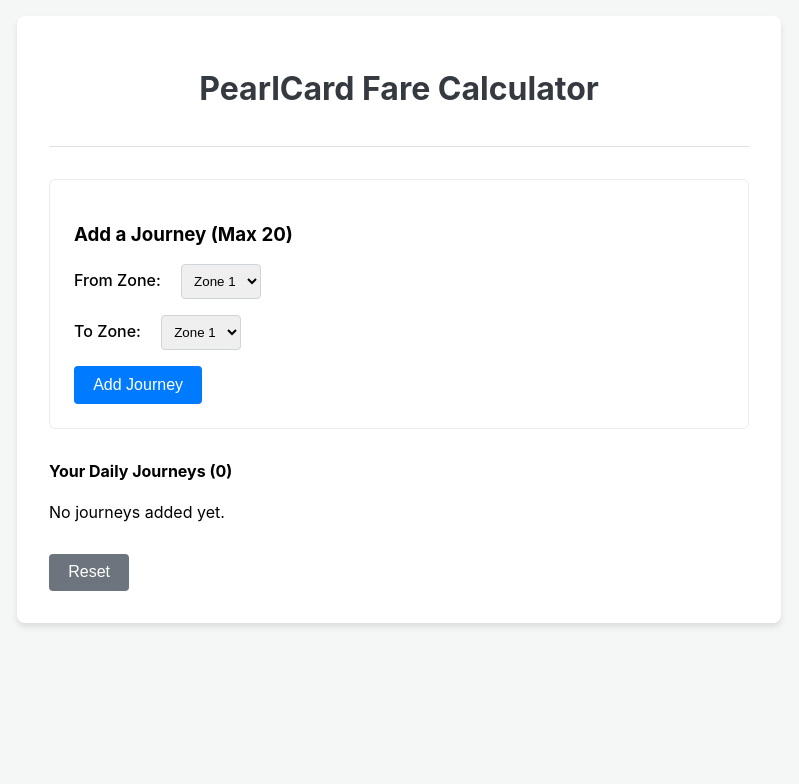
Test case: App Component › should allow a user to add multiple journeys, see the total update, and delete them
Select "Zone 1" in the dropdown labelled "From Zone:" at (221, 282), box x1=181 y1=264 x2=261 y2=299
Select "Zone 2" in the dropdown labelled "To Zone:" at (201, 333), box x1=161 y1=315 x2=241 y2=350
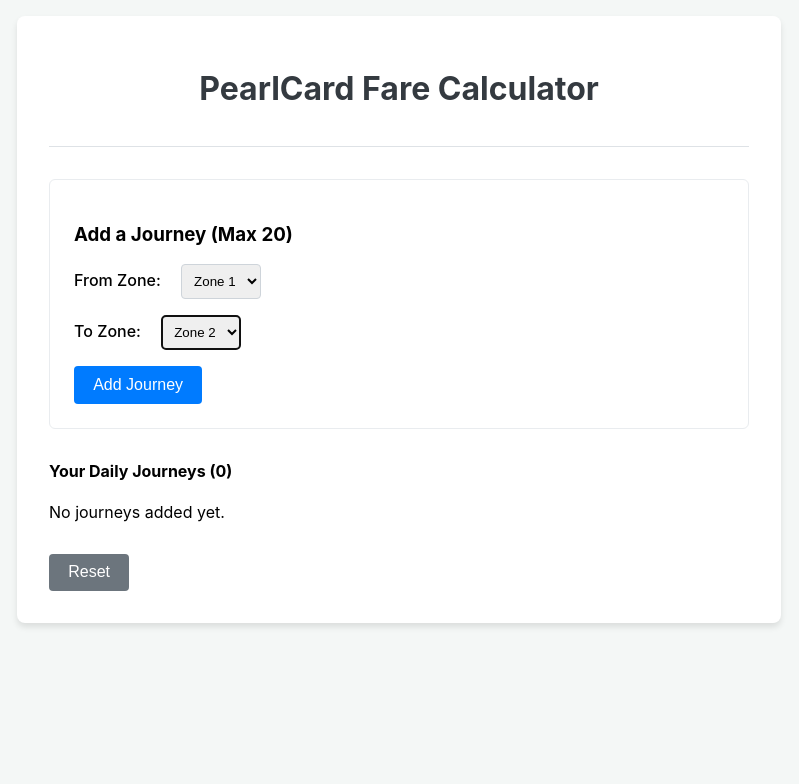
Click the button "Add Journey" at (138, 385), box x1=74 y1=366 x2=202 y2=404
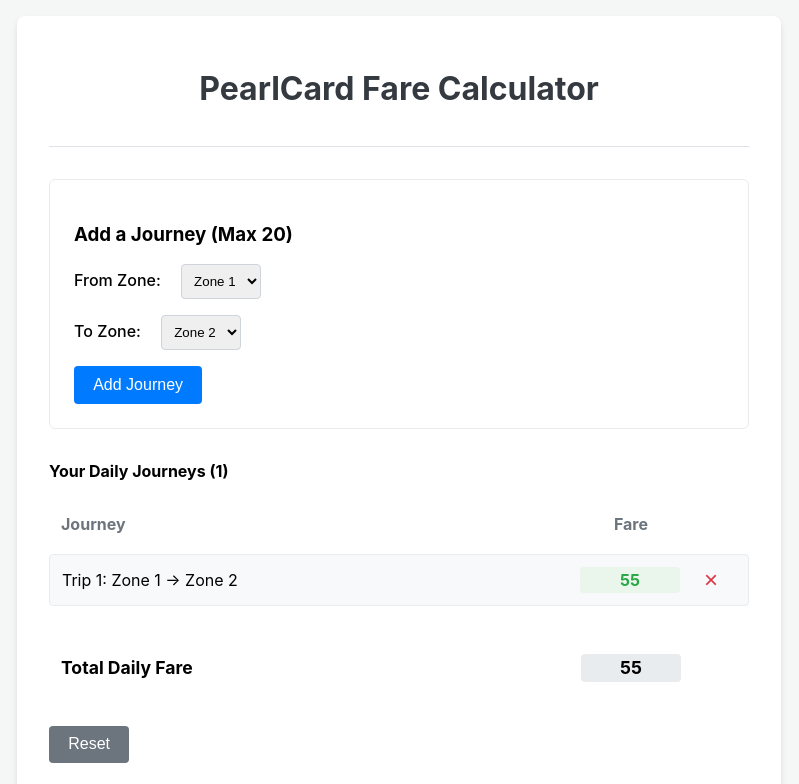
Check: the text "Trip 1: Zone 1 → Zone 2" is shown, box x1=62 y1=570 x2=238 y2=590
Check: the text with class "total-value" reads "55", box x1=620 y1=657 x2=642 y2=678
Select "Zone 3" in the dropdown labelled "From Zone:" at (221, 282), box x1=181 y1=264 x2=261 y2=299
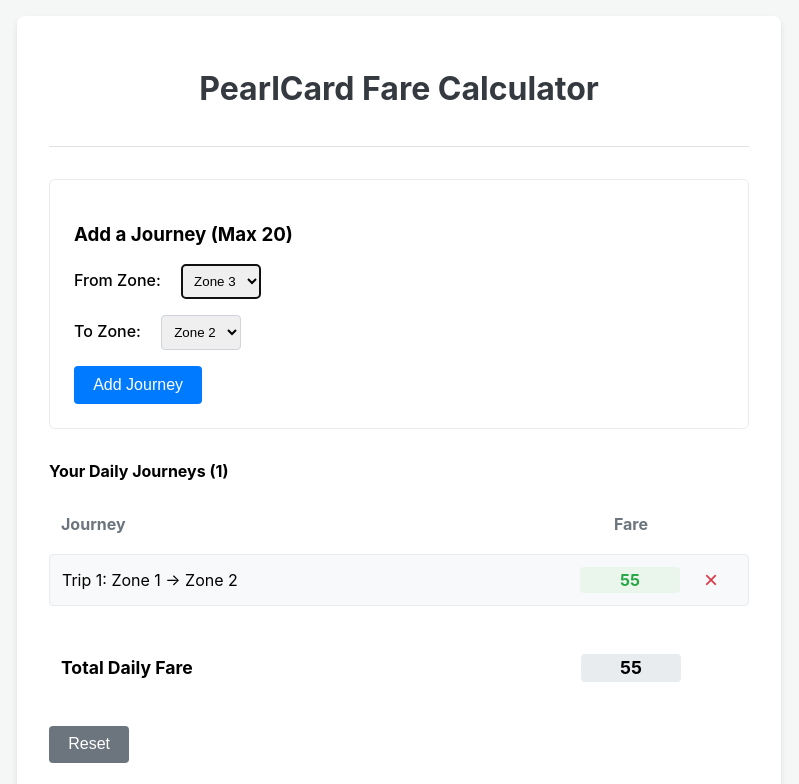
Select "Zone 3" in the dropdown labelled "To Zone:" at (201, 333), box x1=161 y1=315 x2=241 y2=350
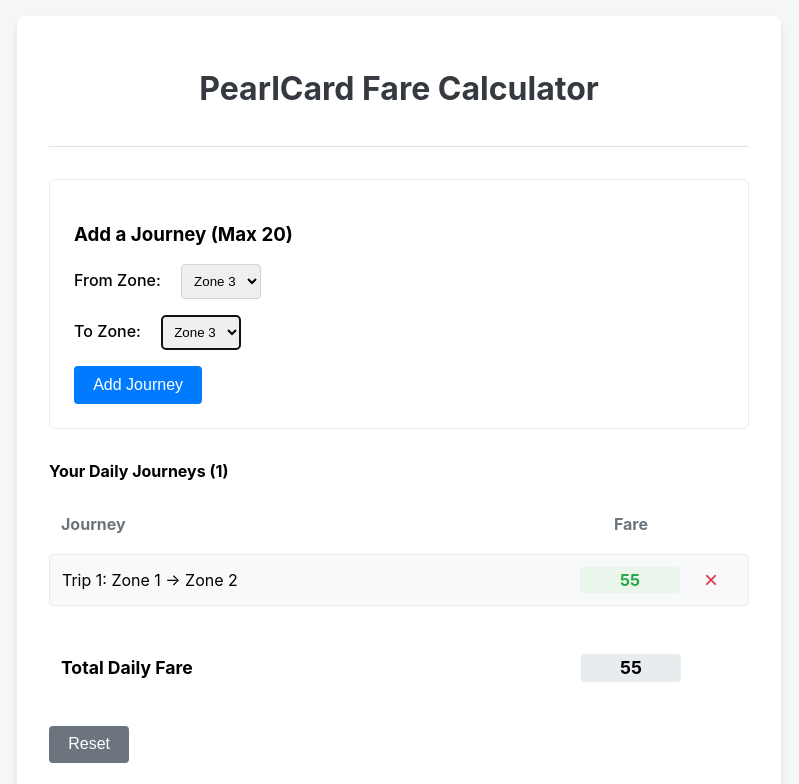
Click the button "Add Journey" at (138, 385), box x1=74 y1=366 x2=202 y2=404
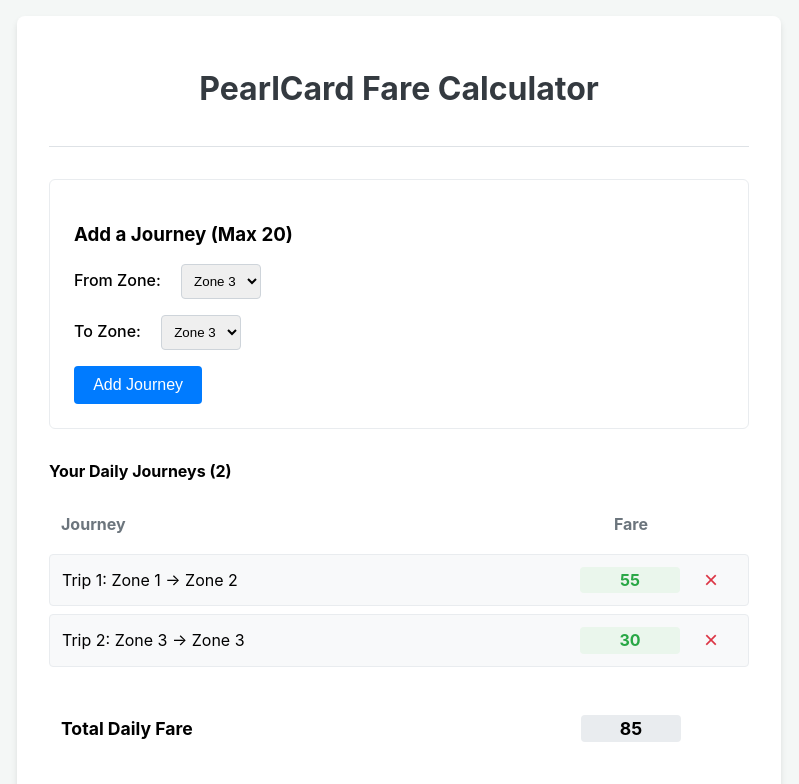
Check: the text "Trip 2: Zone 3 → Zone 3" is shown, box x1=62 y1=630 x2=244 y2=650
Check: the text with class "total-value" reads "85", box x1=620 y1=718 x2=642 y2=739
Click the button titled "delete this journey" in the row of "Trip 1: Zone 1 → Zone 2" at (711, 580), box x1=696 y1=568 x2=726 y2=592
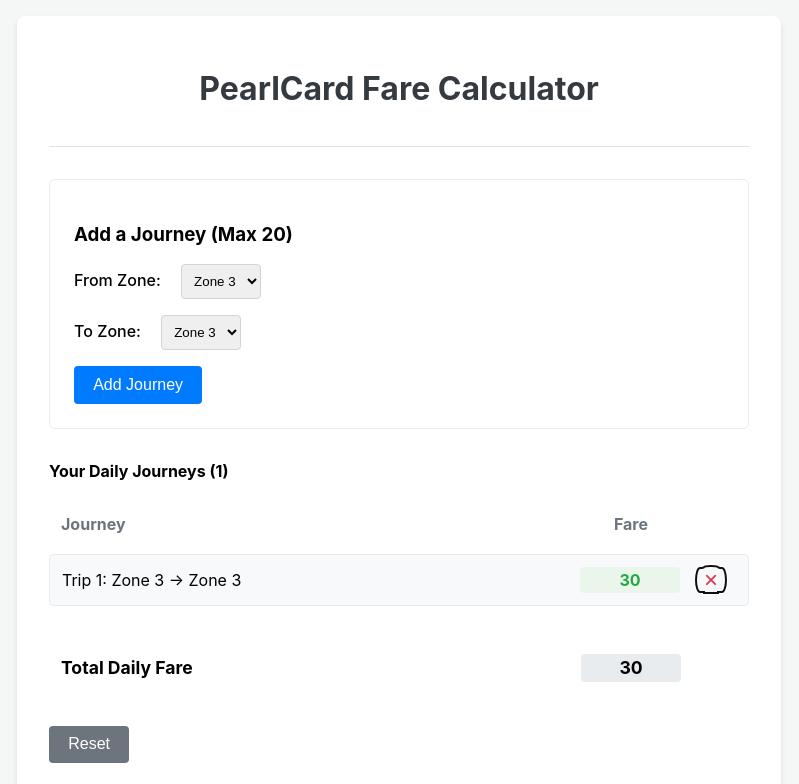
Check: the text "Trip 1: Zone 1 → Zone 2" is gone
